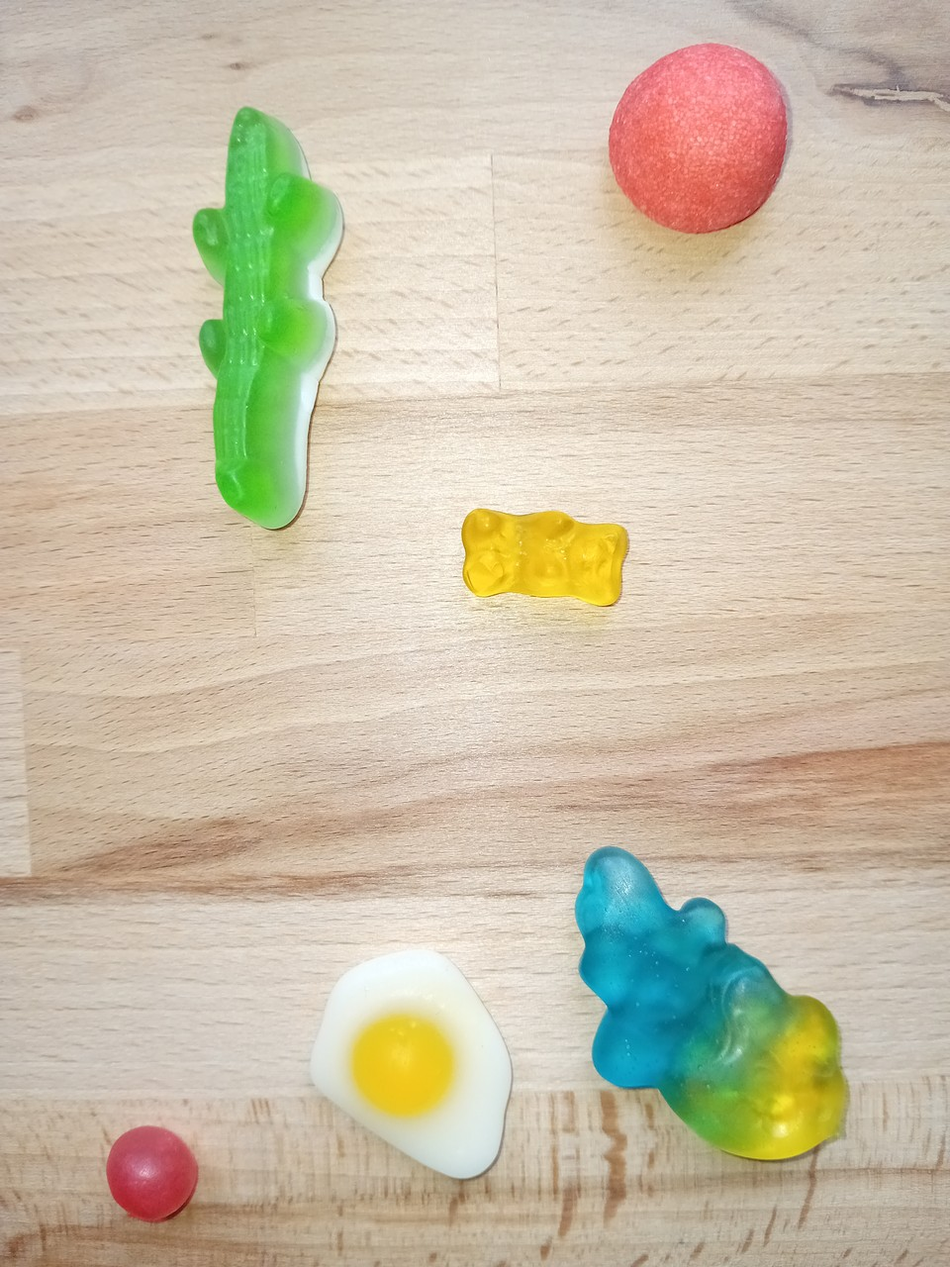crocodile_vert: (184, 101, 349, 538)
dragibus_rouge: (103, 1121, 202, 1222)
oeuf_oeuf: (306, 941, 516, 1190)
ourson_jaune: (446, 500, 641, 610)
schtroumpf_bleu-jaune: (567, 837, 856, 1172)
tagada_fraise: (605, 38, 799, 236)
